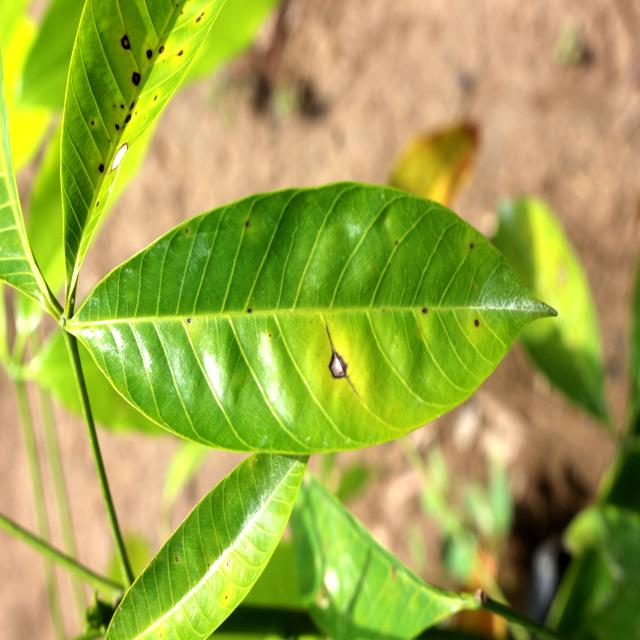Colletotrichum: (329, 352, 348, 379), (121, 34, 130, 50), (132, 72, 141, 86), (146, 50, 152, 60), (99, 164, 104, 173), (159, 46, 164, 54), (178, 50, 183, 56)
